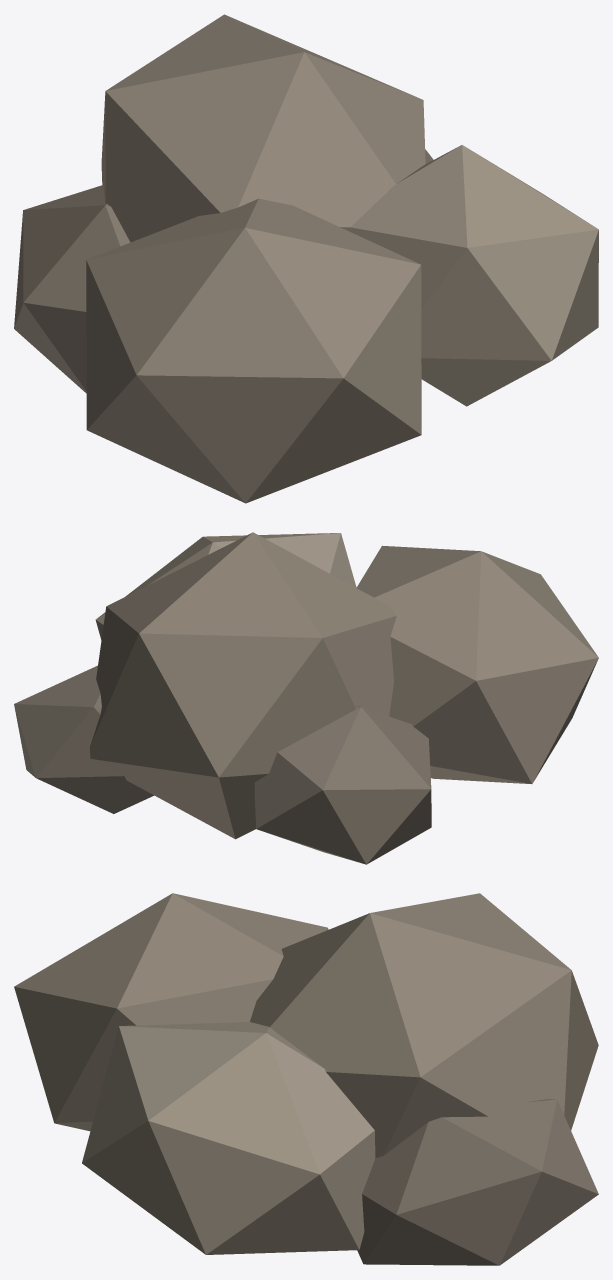
Rendered from rubble_cluster.glb.
The picture shows the model from 3 angles, top to bottom: view 1: azimuth 30°, elevation 25°; view 2: azimuth 150°, elevation 25°; view 3: azimuth 270°, elevation 25°; orthographic projection. The views are drawn at different scales.
Visible parts, largest first — view 1: RubbleCluster_Small; view 2: RubbleCluster_Small; view 3: RubbleCluster_Small.
Part boxes in pixels (box(x1,y1,x2,y2)): RubbleCluster_Small: box(14, 14, 598, 503); RubbleCluster_Small: box(14, 532, 598, 864); RubbleCluster_Small: box(14, 893, 598, 1265).
Bounding box in the file's own units: 1.3 × 0.8 × 1.4.
